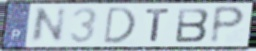3: (69, 6, 101, 46)
B: (174, 7, 211, 44)
D: (102, 5, 138, 46)
N: (28, 6, 69, 46)
P: (208, 5, 248, 45)
T: (144, 7, 173, 43)
